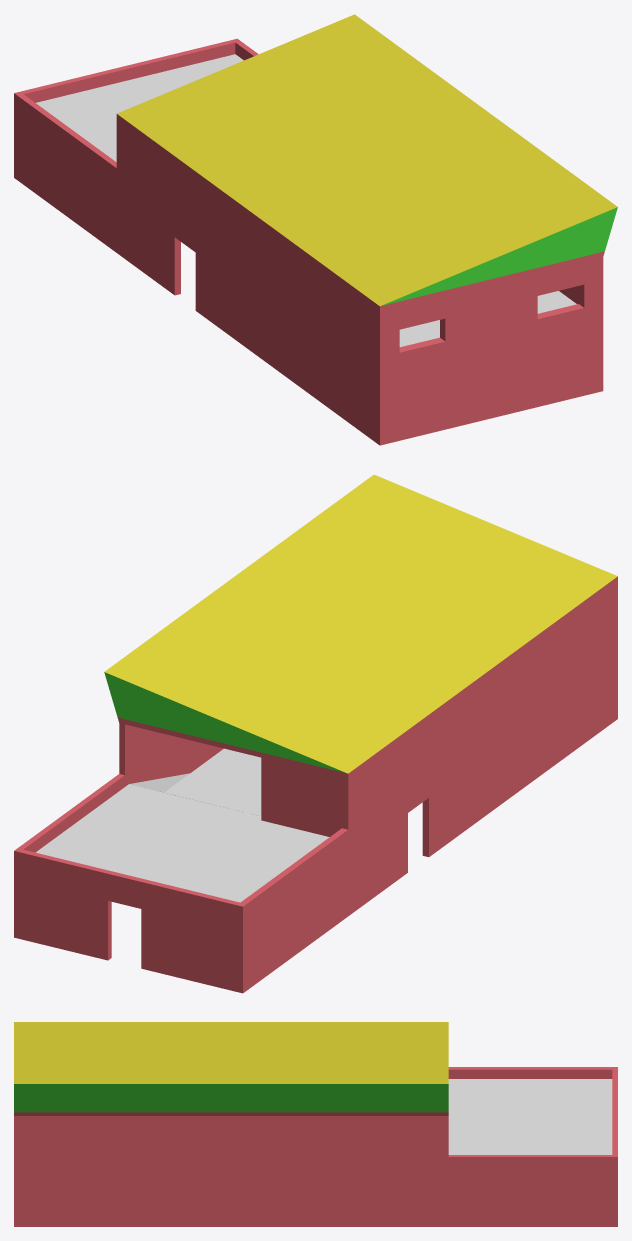
The model's file is top2tex.fbx.
3 views of the same model, one above another, from view 1: azimuth 30°, elevation 25°; view 2: azimuth 150°, elevation 25°; view 3: azimuth 270°, elevation 25° (orthographic). The views are drawn at different scales.
Parts seen in each view (by area): view 1: Plane.002; view 2: Plane.002; view 3: Plane.002.
Part boxes in pixels (left/top/right/bottom): Plane.002: left=14, top=14, right=617, bottom=445; Plane.002: left=14, top=474, right=617, bottom=993; Plane.002: left=14, top=1022, right=617, bottom=1226.
Size of the model in its own units: 2639 by 1912 by 7023.
